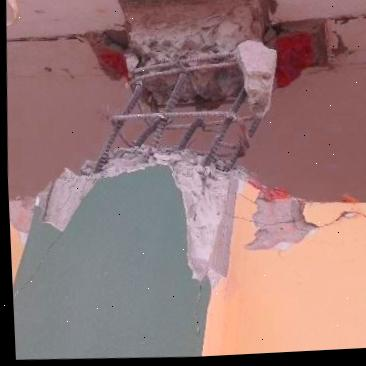exposed_rebar: (92, 72, 250, 174)
spalling: (36, 0, 330, 286)
